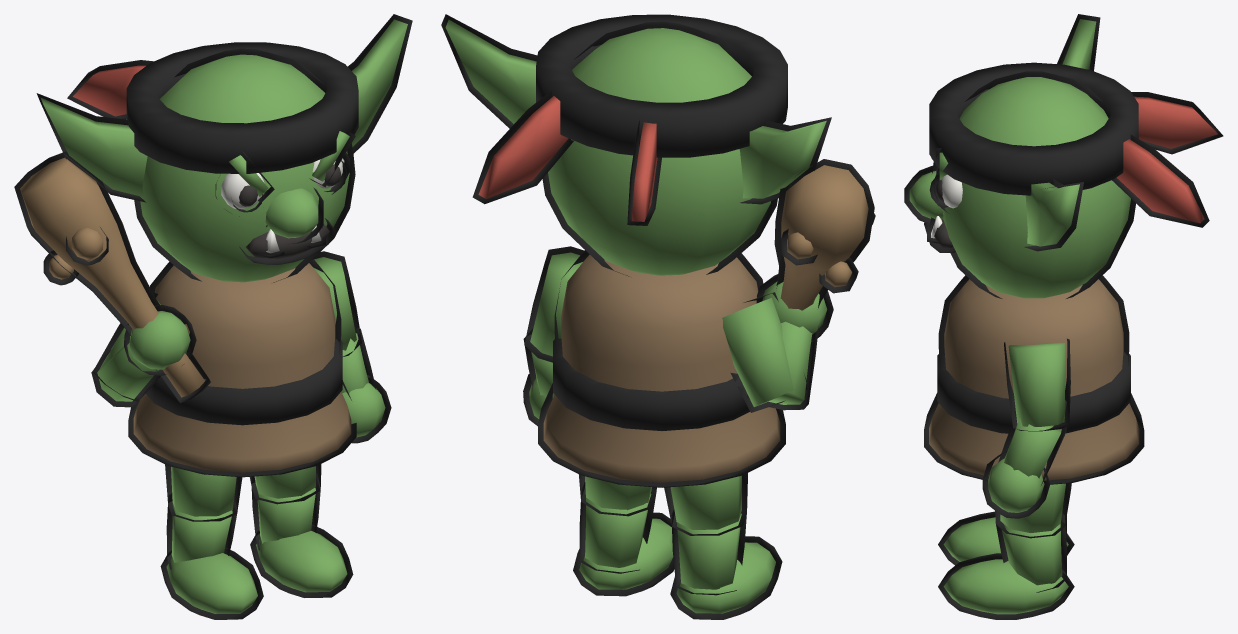
Rendered from td_goblin.fbx.
3 views of the same model, side by side, from view 1: azimuth 30°, elevation 25°; view 2: azimuth 150°, elevation 25°; view 3: azimuth 270°, elevation 25° (orthographic). The views are drawn at different scales.
Parts seen in each view (by area): view 1: Goblin; view 2: Goblin; view 3: Goblin.
Boxes of the visible parts, bbox=[...] form: Goblin: bbox=[14, 14, 412, 619]; Goblin: bbox=[441, 14, 875, 619]; Goblin: bbox=[904, 14, 1223, 619].
Size of the model in its own units: 75.07 by 97.7 by 55.11.
